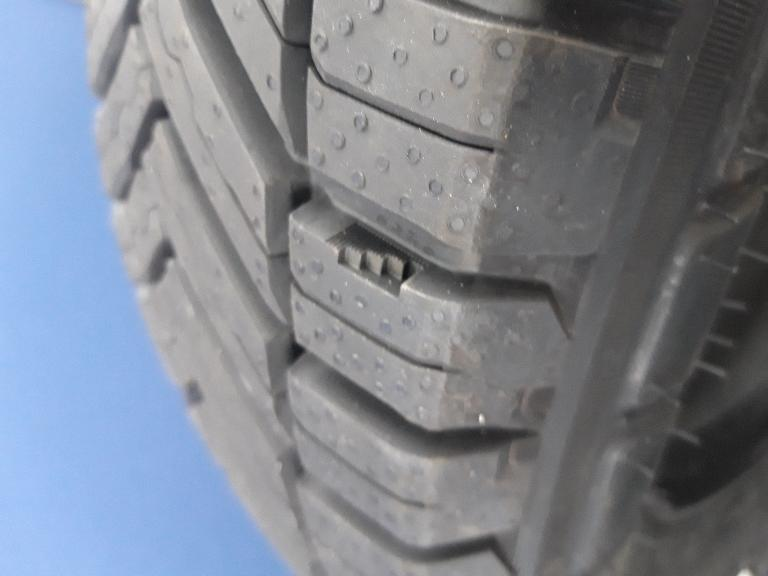temoin:100: (321, 217, 433, 304)
